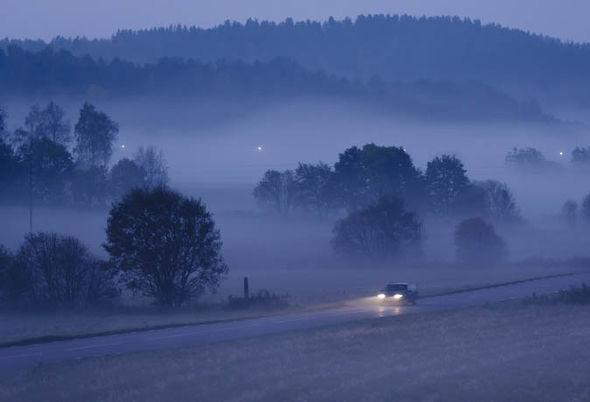car: (376, 281, 419, 307)
